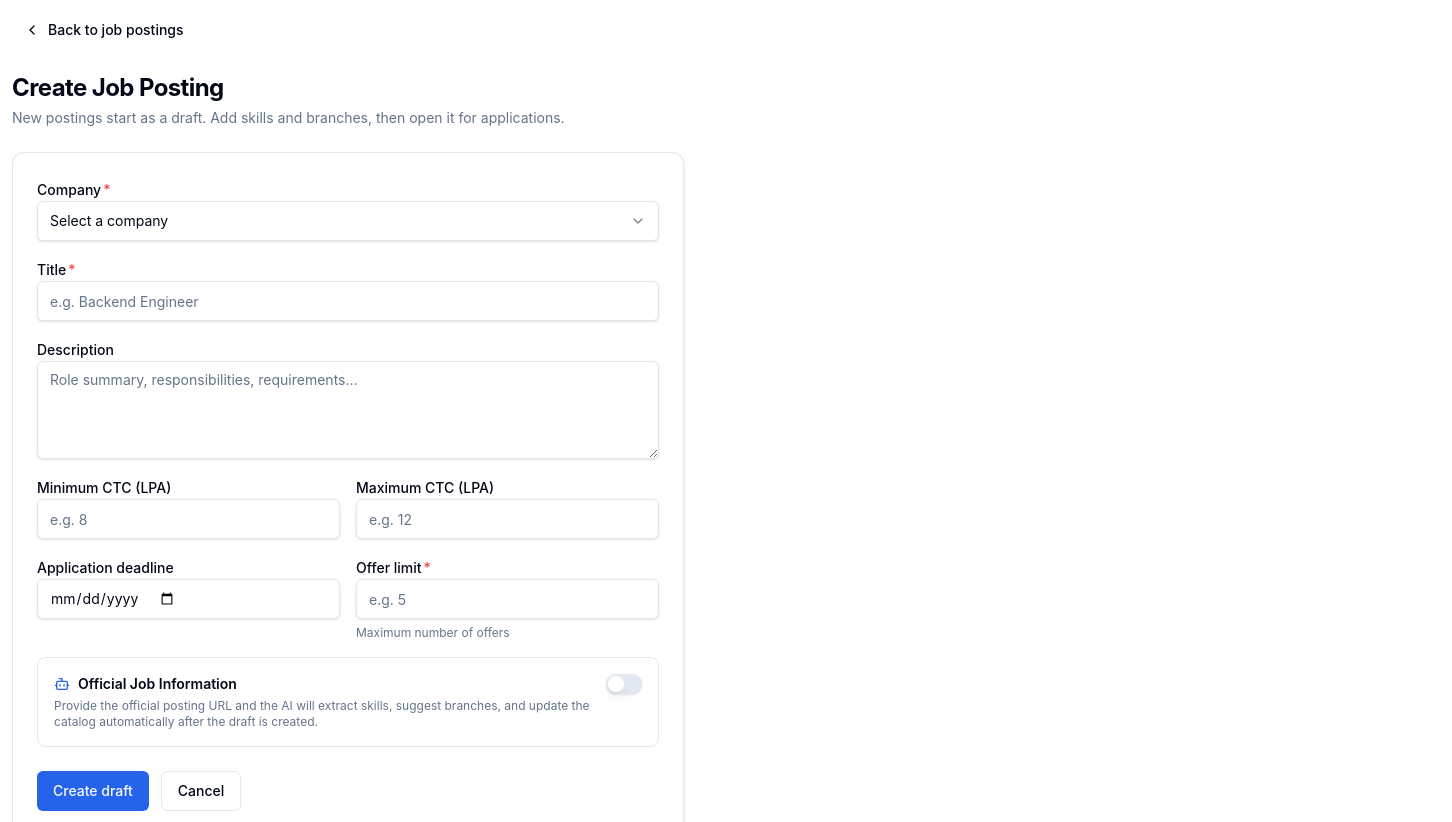
Scenario: CreateJobPostingPage › renders a backend ProblemDetail error as a toast without leaving the form
Step 1. Click the dropdown labelled "Select a company" → [109, 220], box [37,201,659,241]
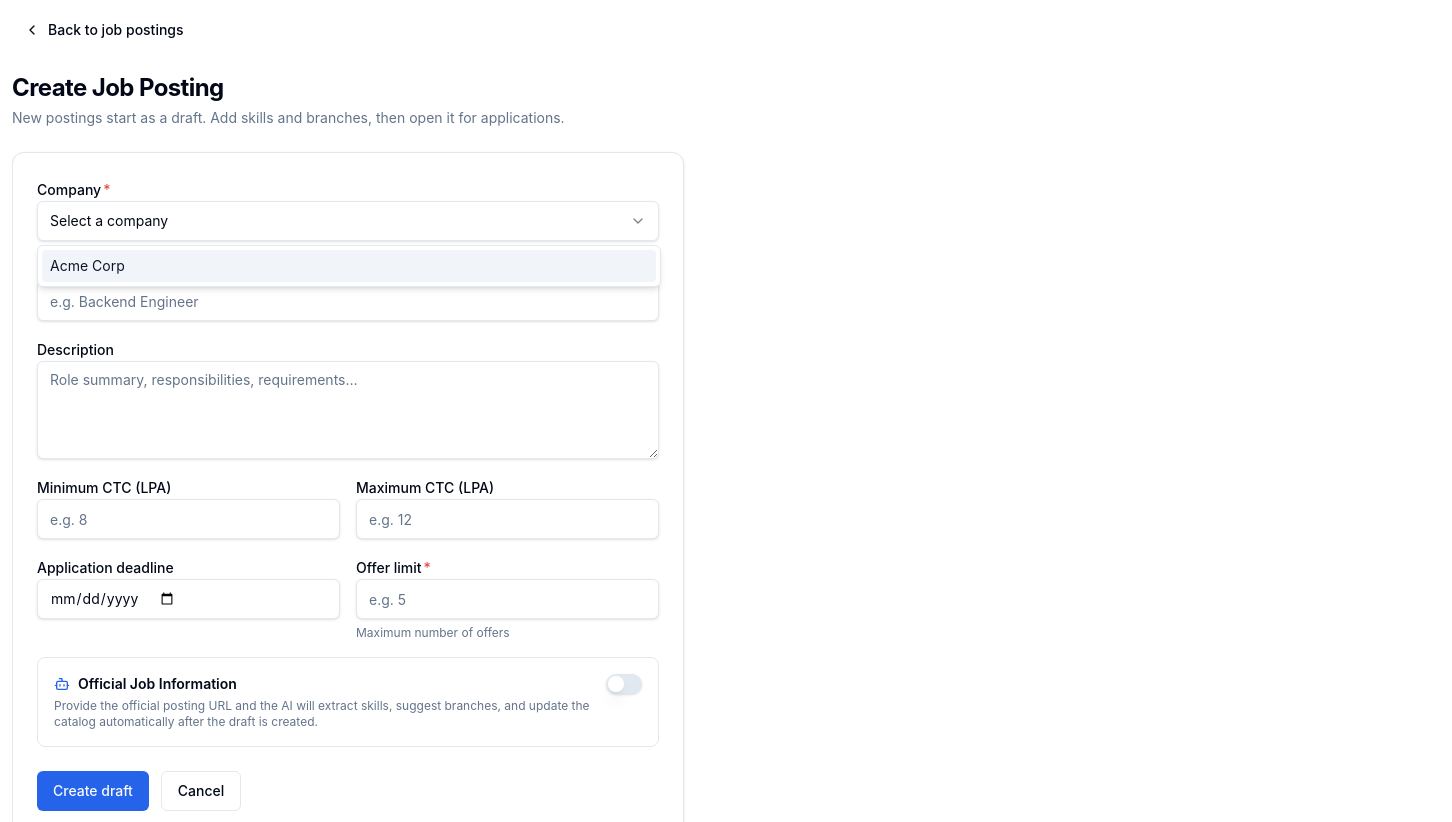
Step 2. Click the option "Acme Corp" → [87, 266], box [42,250,656,282]
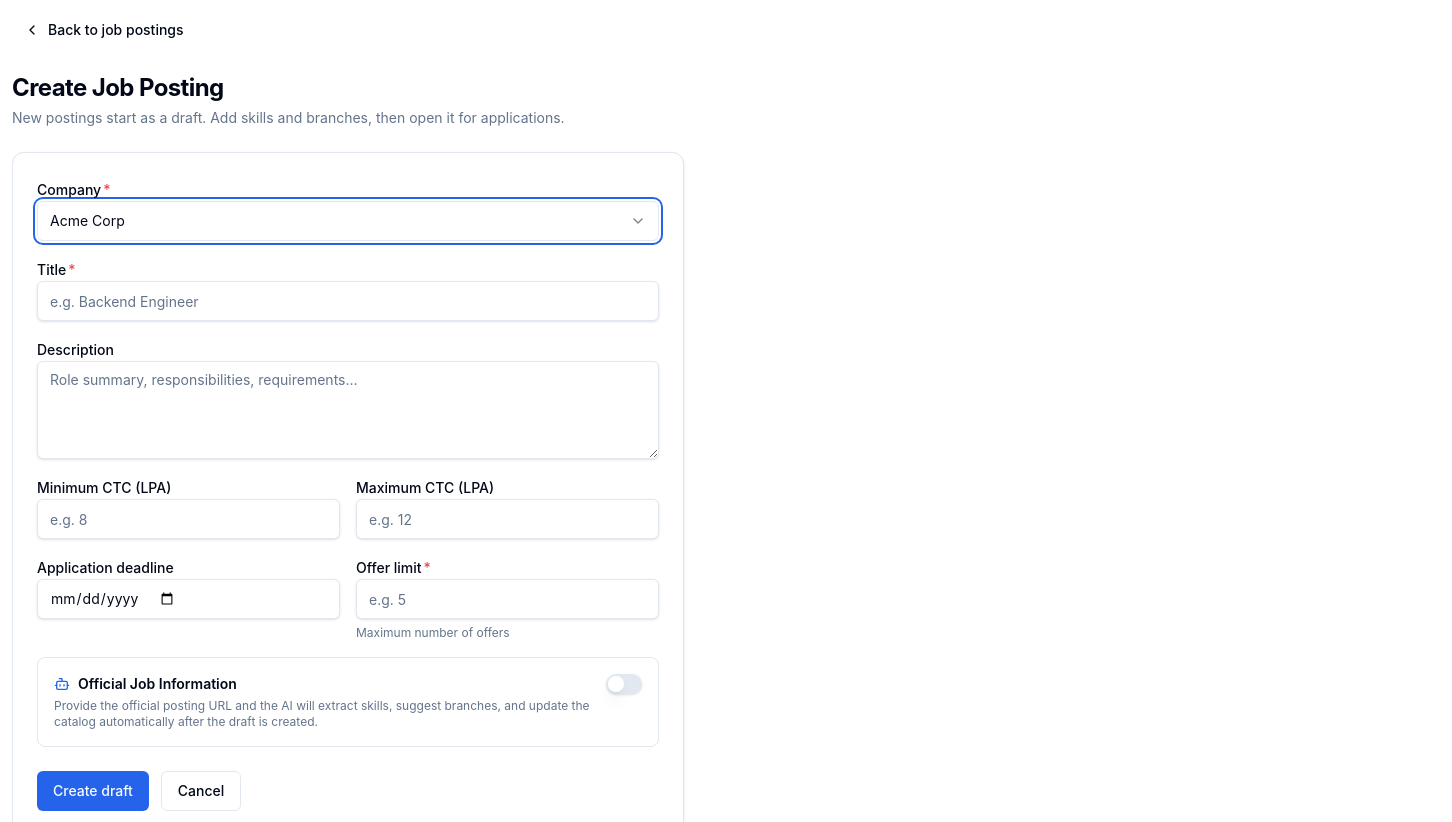
Step 3. Type "Backend Engineer" into the field labelled "Title*" → [348, 301], box [37,281,659,321]
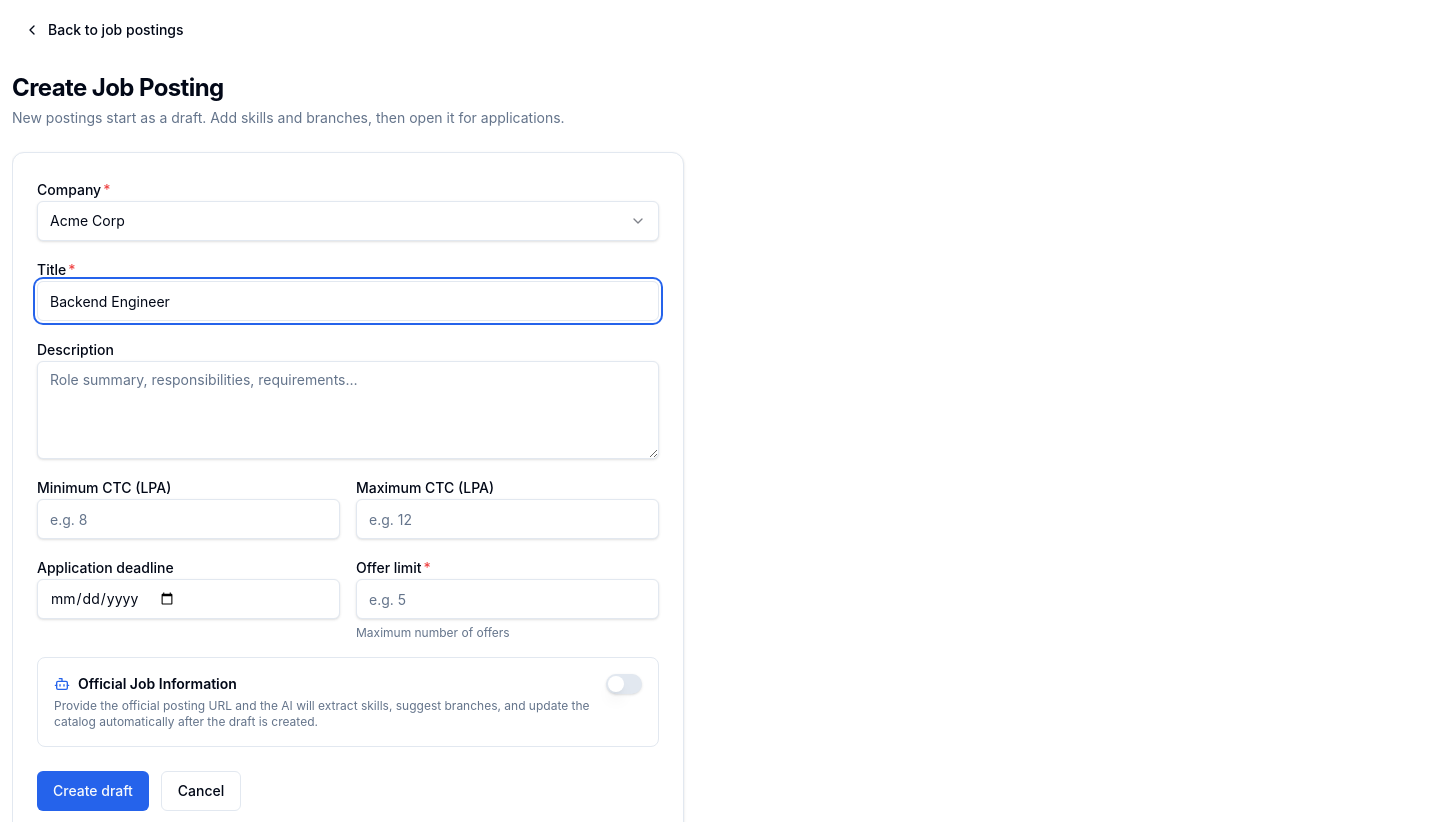
Step 4. Type "5" into the number field labelled "Offer limit*" → [508, 599], box [356,579,659,619]
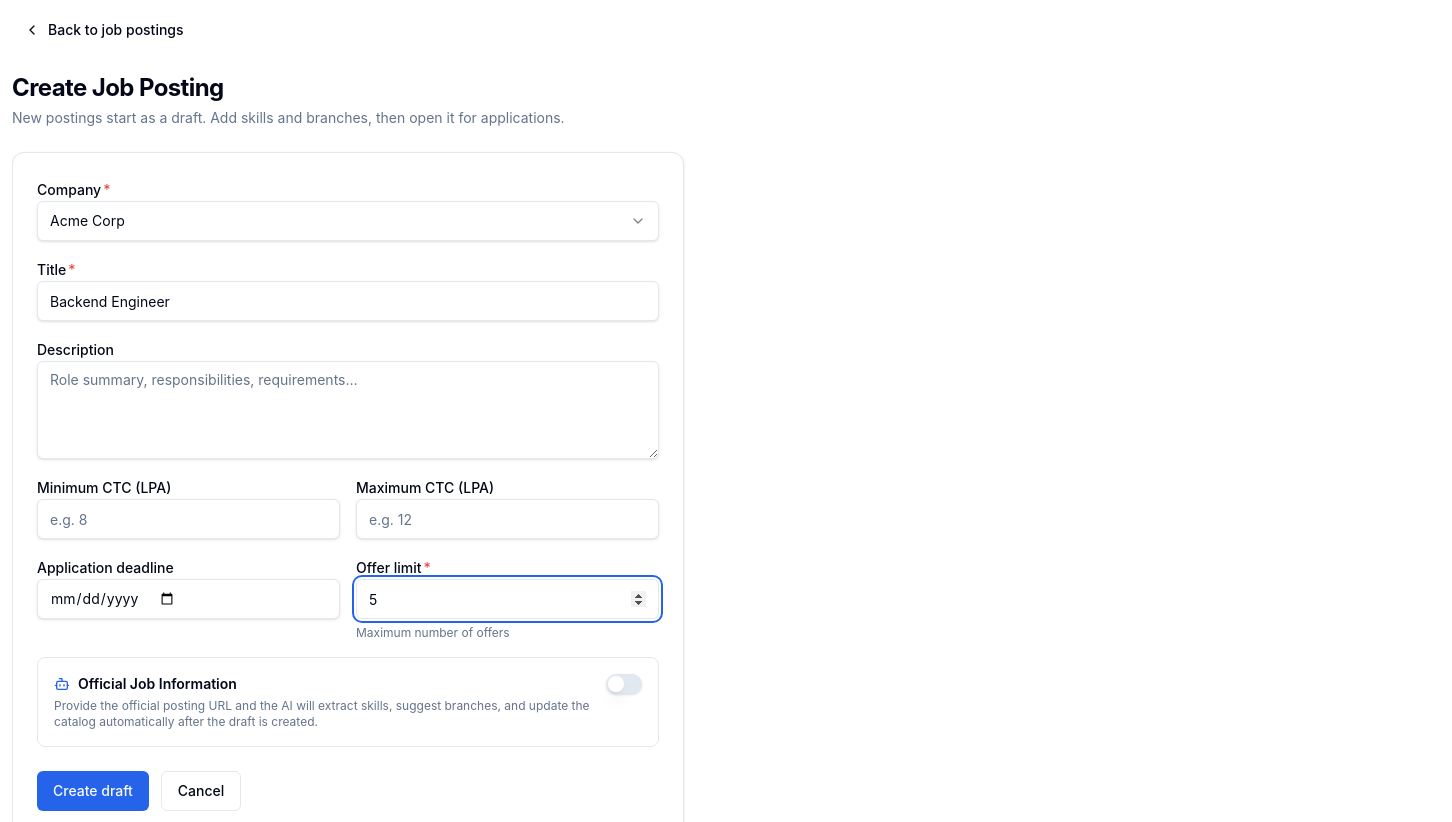
Step 5. Click the button "Create draft" → [93, 791], box [37,771,149,811]
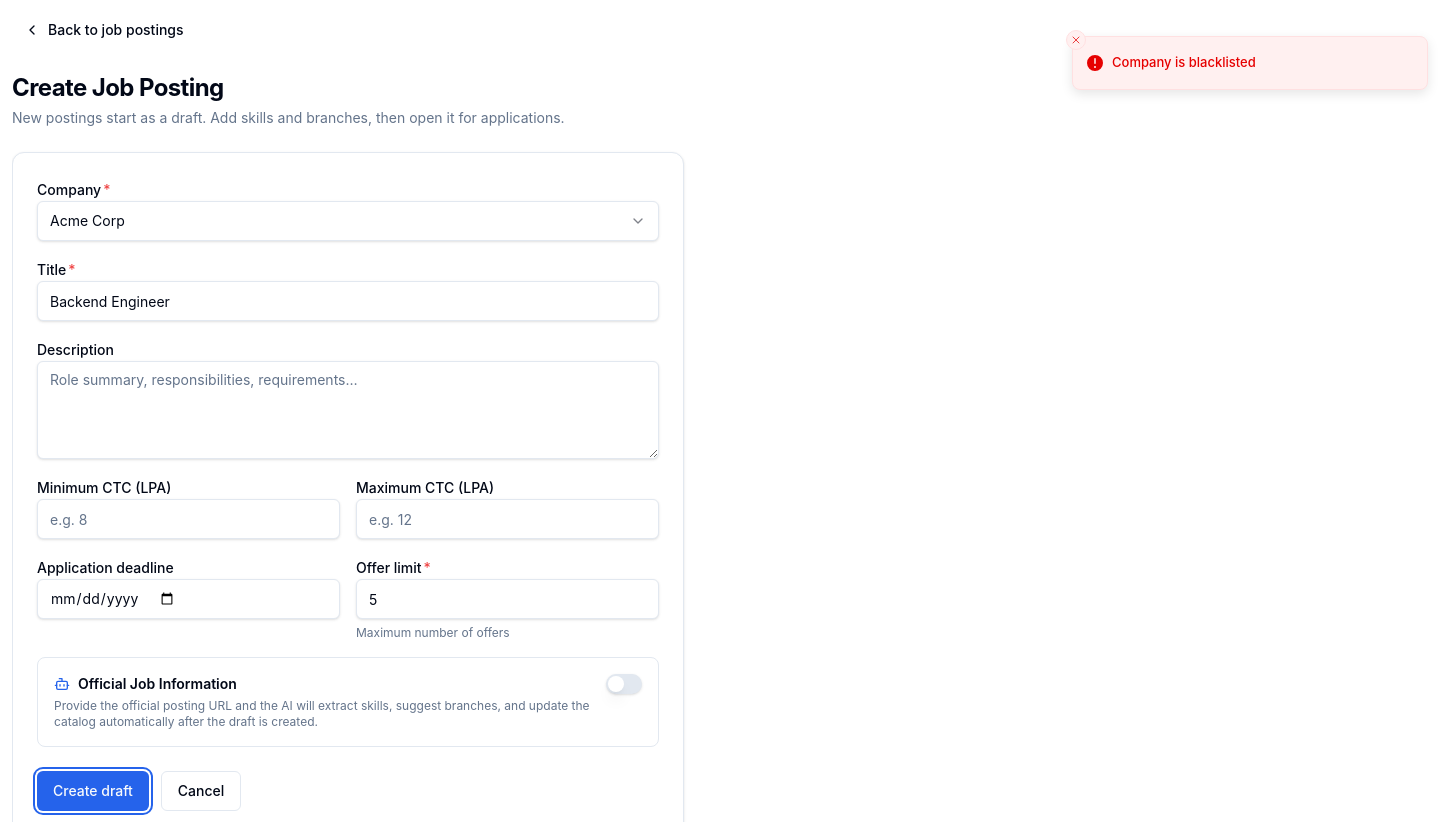
Result: the text "Company is blacklisted" is shown at [1112,53,1256,72]
